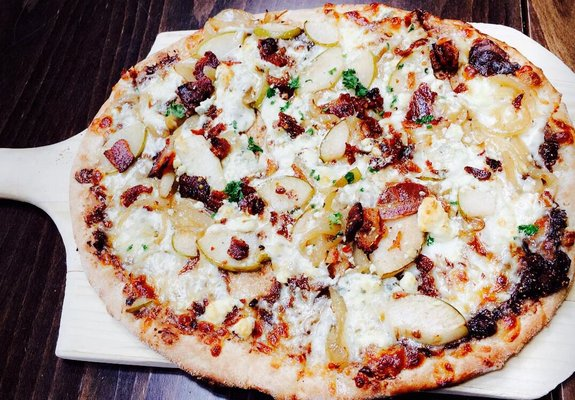curry: (55, 0, 575, 400)
sandwich: (75, 4, 575, 399)
